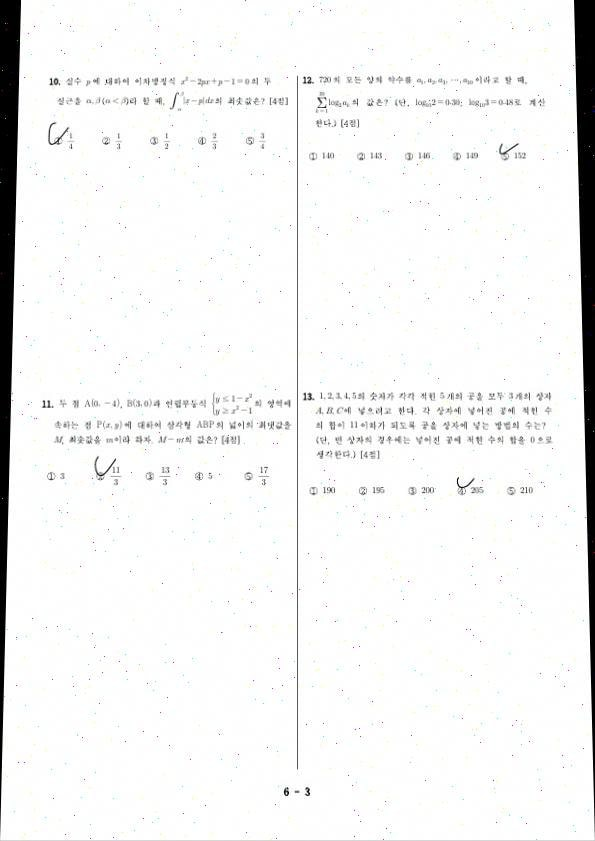question: (299, 386, 559, 507), (33, 387, 296, 501), (301, 70, 551, 175), (39, 70, 294, 162)
